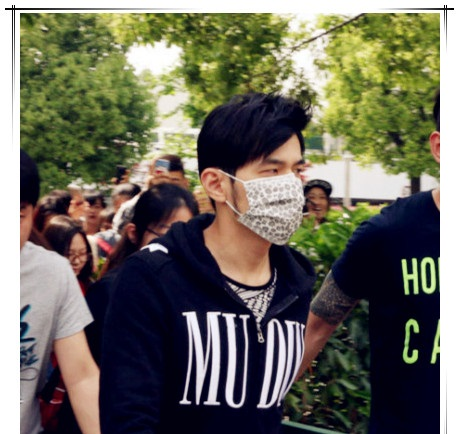face: (147, 208, 194, 263), (65, 236, 89, 276), (307, 187, 327, 217)
face_mask: (238, 132, 304, 243)
